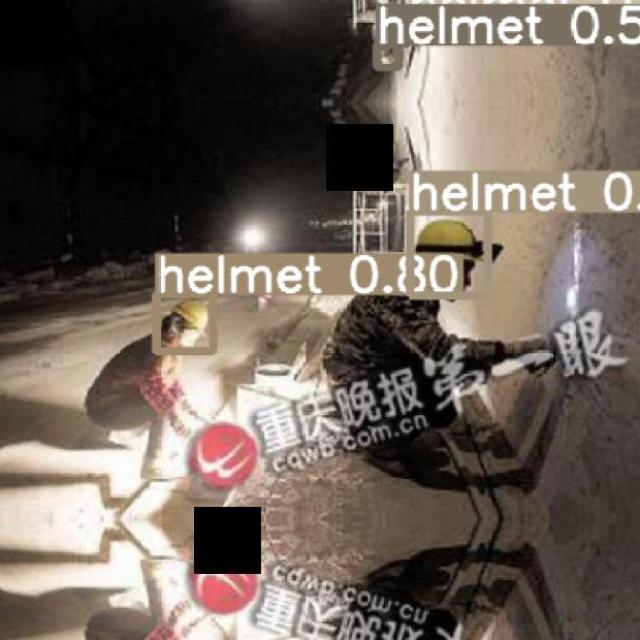helmet: (414, 219, 503, 263)
